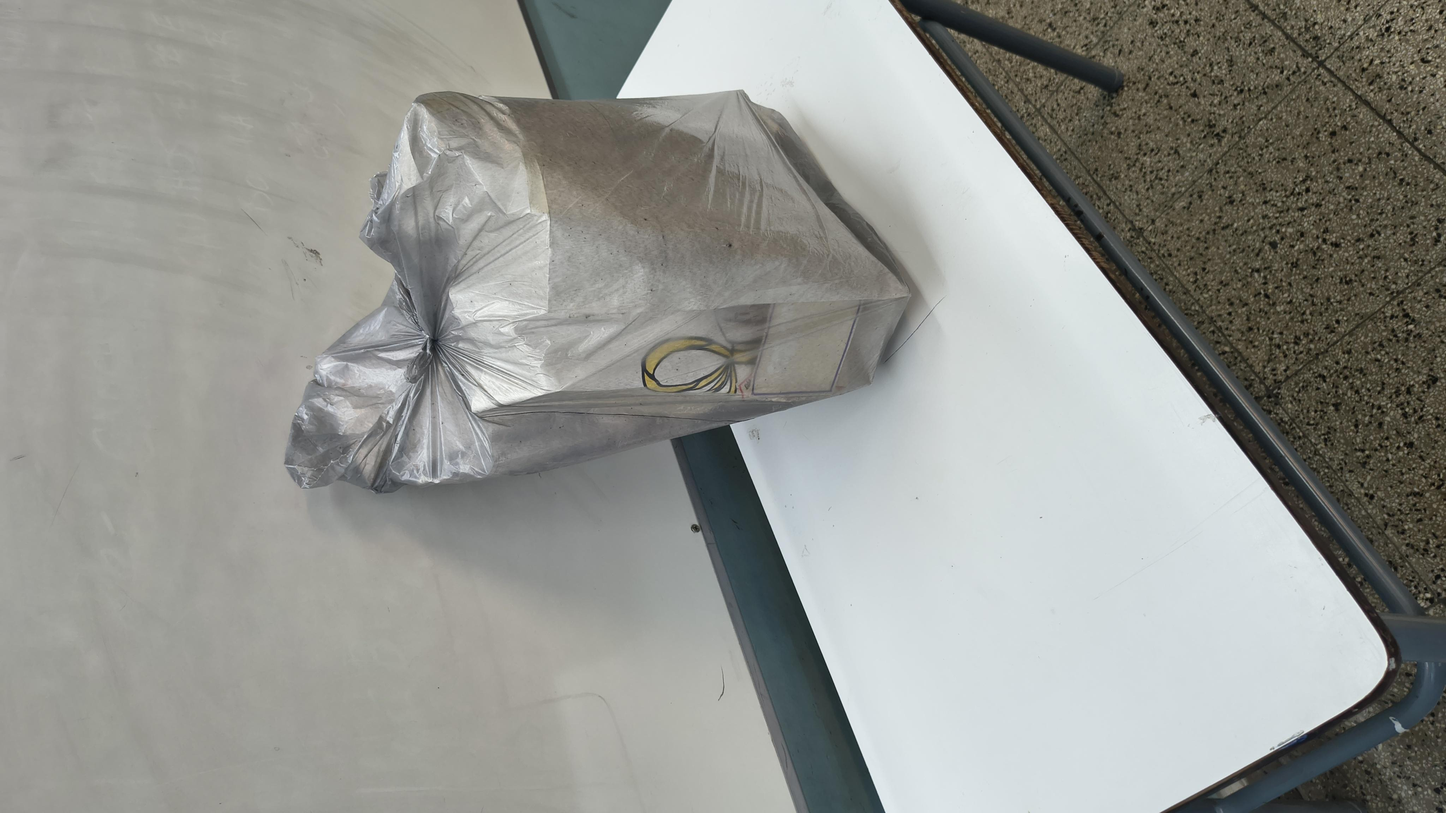Garbage: (464, 129, 1368, 538)
